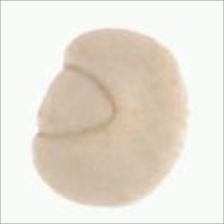L5: (32, 62, 120, 140), (169, 99, 191, 170)
L6: (30, 27, 193, 208)
